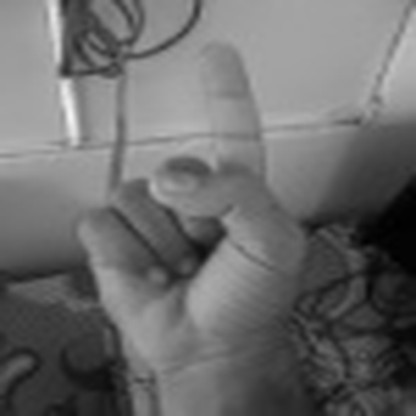d: (71, 36, 307, 365)
